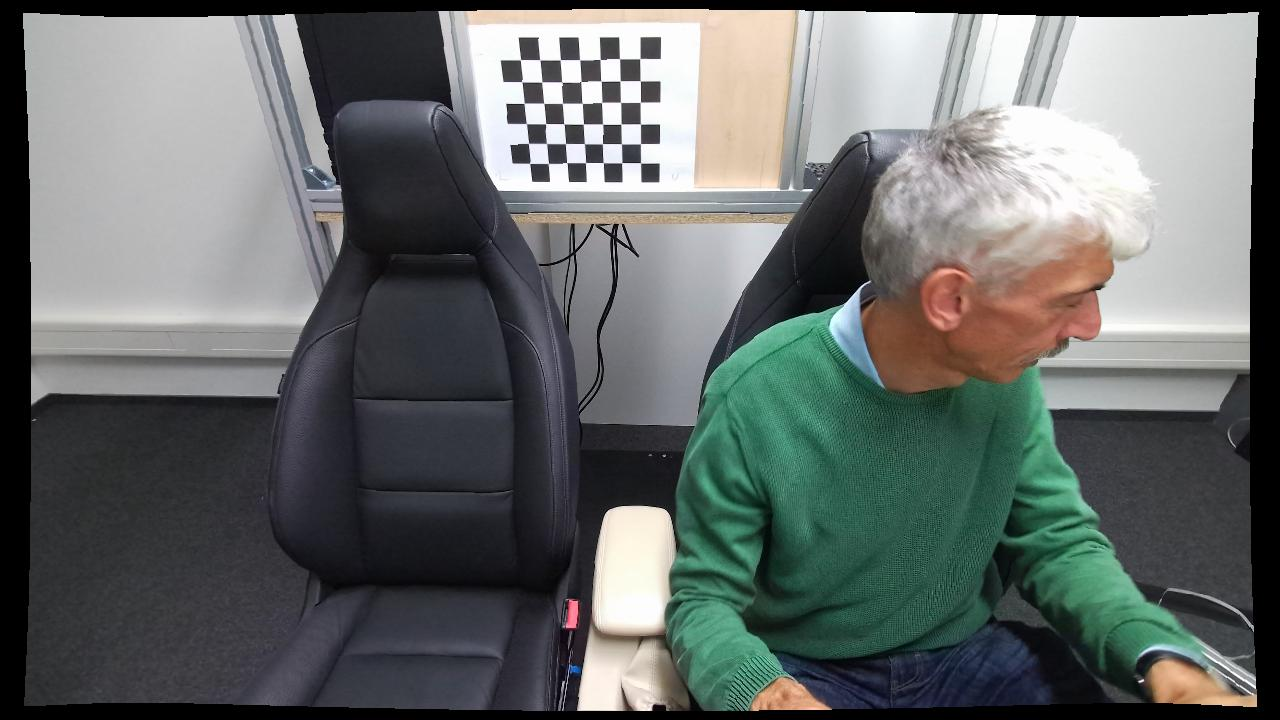Distracted: (670, 102, 1177, 715)
